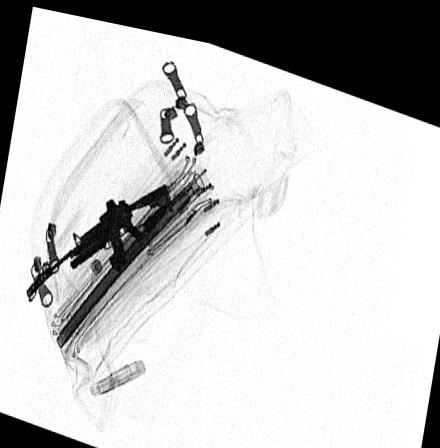Bullet: (109, 198, 167, 269)
Gun: (26, 175, 172, 297)
